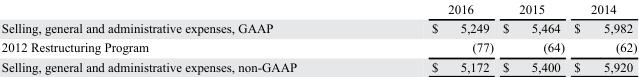table: (0, 1, 636, 73)
table column: (0, 1, 363, 73), (363, 1, 497, 73), (497, 1, 568, 73), (568, 1, 636, 73)
table column header: (0, 1, 636, 18)
table row: (0, 18, 636, 37), (0, 37, 636, 56), (0, 1, 636, 18), (0, 56, 636, 73)
